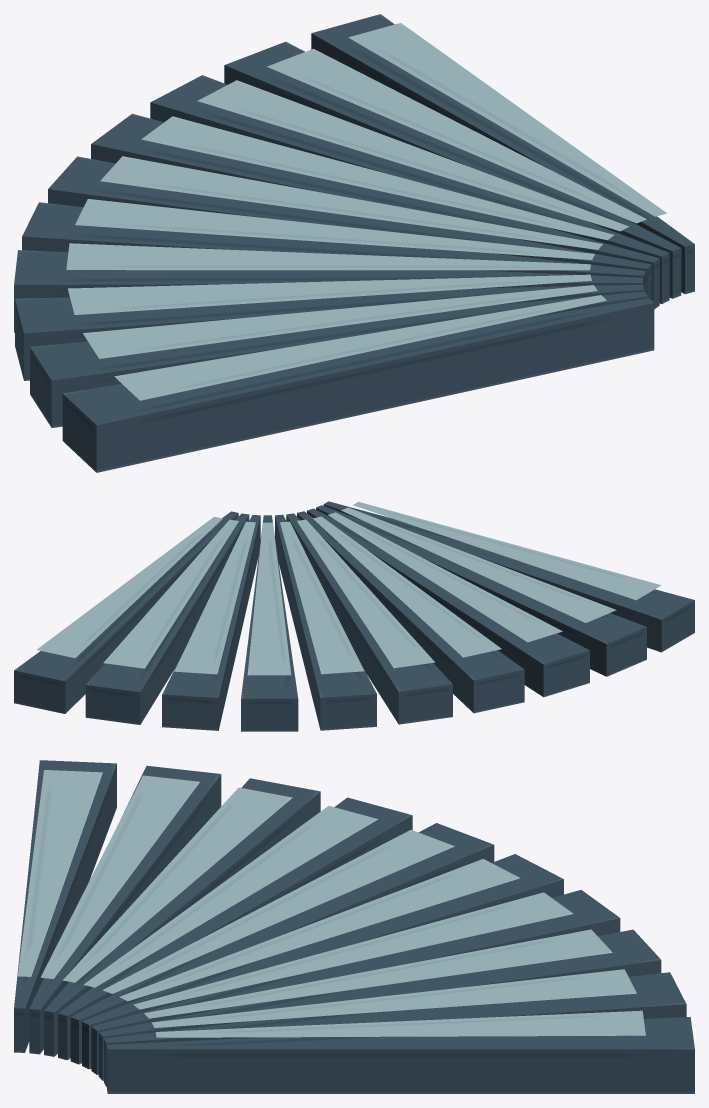
The model's file is sc_tread_curve_right_0.obj.
3 renders of one model, top to bottom at view 1: azimuth 30°, elevation 25°; view 2: azimuth 150°, elevation 25°; view 3: azimuth 270°, elevation 25°, orthographic. The views are drawn at different scales.
Bounding box in the file's own units: 17.48 × 1.56 × 17.39.
Materials: 1 (1 with a texture image).
